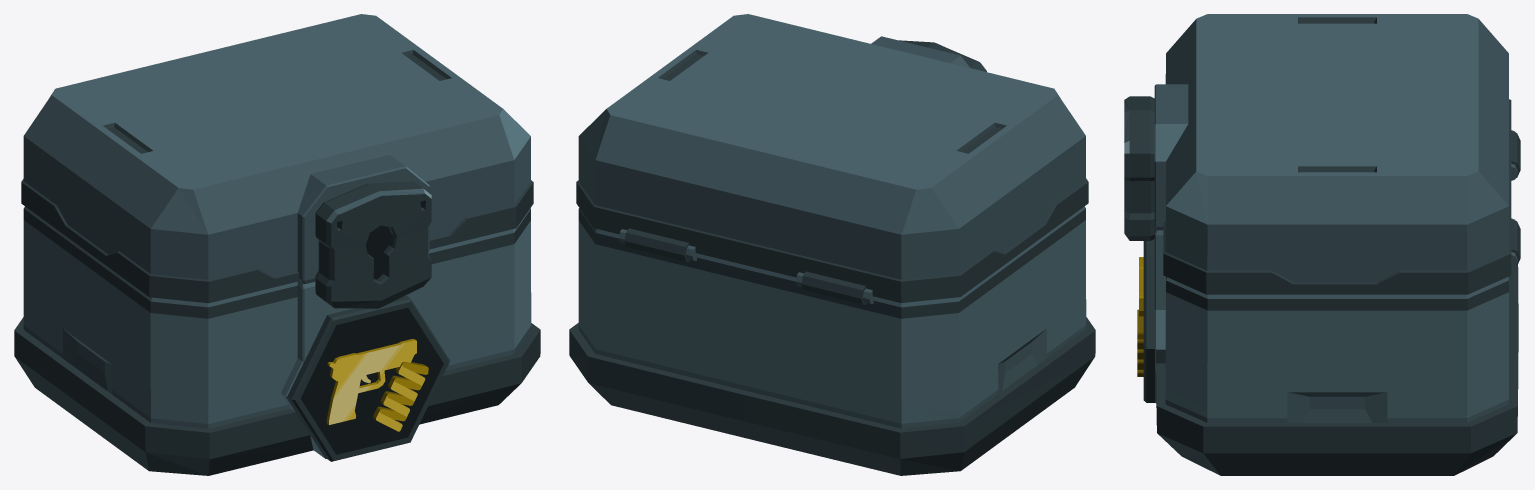
The model's file is BOX_MATERAL_G1_03.fbx.
3 renders of one model, left to right at view 1: azimuth 30°, elevation 25°; view 2: azimuth 150°, elevation 25°; view 3: azimuth 270°, elevation 25°, orthographic. The views are drawn at different scales.
Visible parts, largest first — view 1: Object003, BOX_MATERAL_G1_03, Object004; view 2: Object003, BOX_MATERAL_G1_03; view 3: Object003, BOX_MATERAL_G1_03, Object004.
Boxes of the visible parts, left/top/right/bottom form: Object003: left=21, top=14, right=533, bottom=303; BOX_MATERAL_G1_03: left=14, top=206, right=540, bottom=475; Object004: left=315, top=181, right=431, bottom=308; Object003: left=576, top=14, right=1088, bottom=304; BOX_MATERAL_G1_03: left=569, top=206, right=1095, bottom=475; Object003: left=1154, top=14, right=1520, bottom=294; BOX_MATERAL_G1_03: left=1137, top=228, right=1518, bottom=475; Object004: left=1124, top=96, right=1154, bottom=240.
Size of the model in its own units: 187 by 128 by 158.
